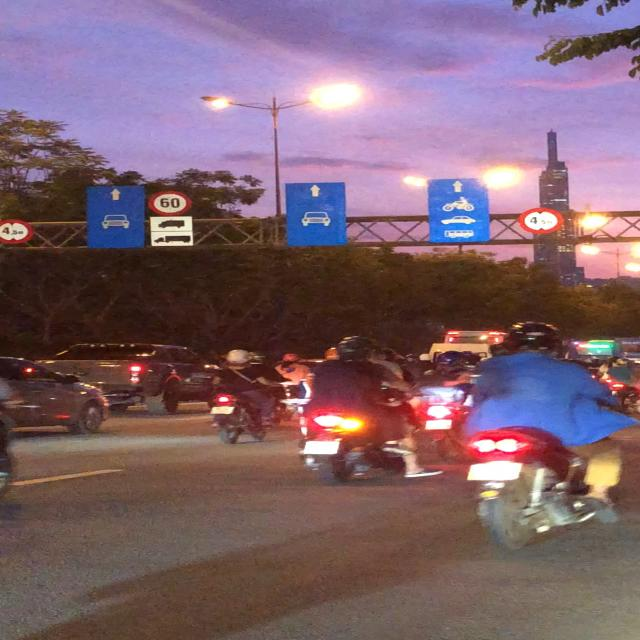Bien bao han che chieu cao: (517, 204, 564, 235), (0, 218, 32, 246)
Bien bao toc do toi da cho phep: (145, 188, 197, 216)
